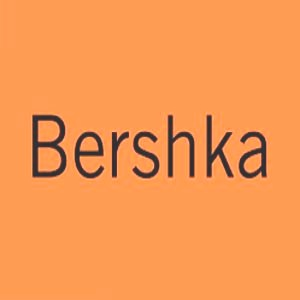bershka: (257, 48, 287, 144)
